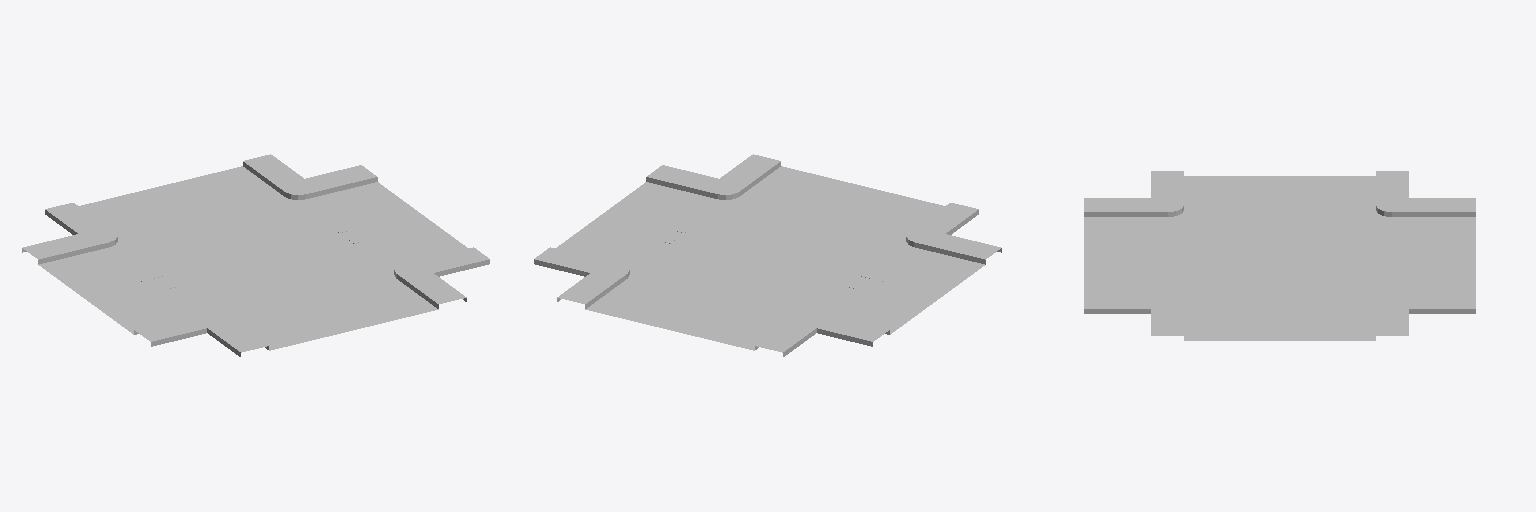
File: Interseccion.obj
3 renders of one model, left to right at view 1: azimuth 30°, elevation 25°; view 2: azimuth 150°, elevation 25°; view 3: azimuth 270°, elevation 25°, orthographic.
Parts seen in each view (by area): view 1: Plane; view 2: Plane; view 3: Plane.
Boxes of the visible parts, box(x1,y1,x2,y2) form: Plane: box(22, 154, 489, 356); Plane: box(534, 154, 1001, 356); Plane: box(1084, 171, 1475, 340).
Bounding box in the file's own units: 2 × 0.0285 × 2.